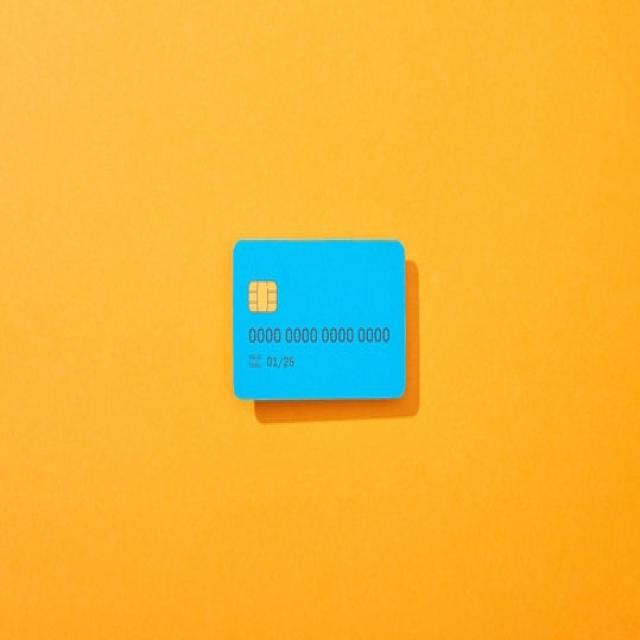payment_card: (230, 237, 407, 402)
